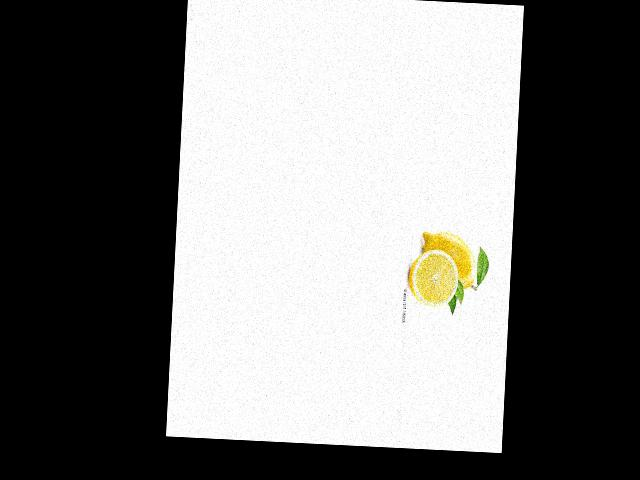lemon: (412, 224, 483, 298)
